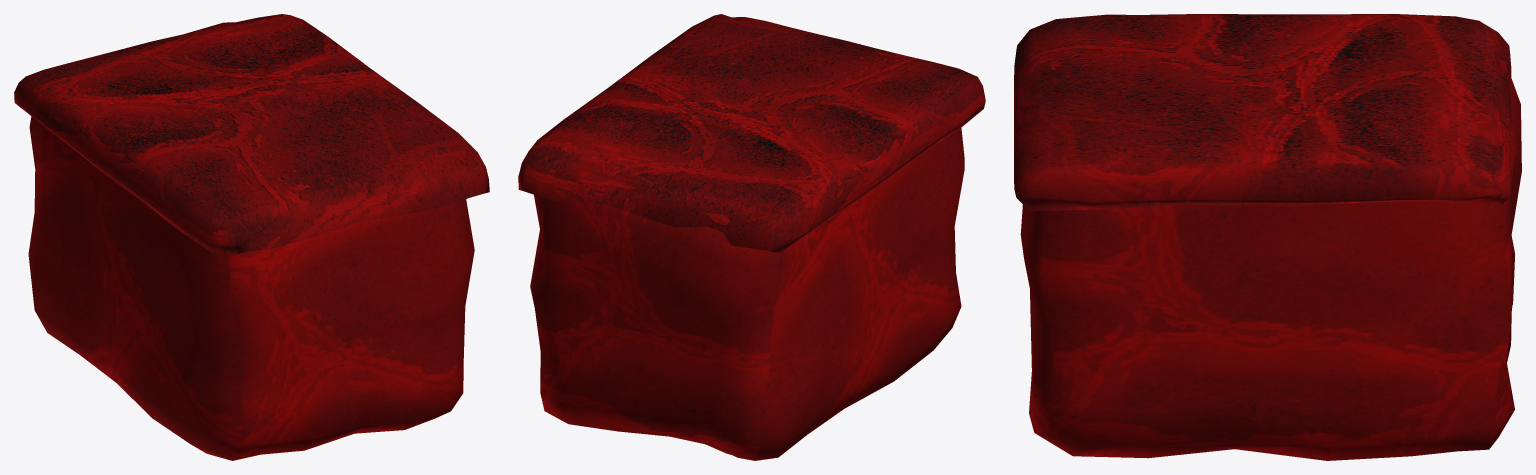
File: tile4 1.fbx
3 renders of one model, left to right at view 1: azimuth 30°, elevation 25°; view 2: azimuth 150°, elevation 25°; view 3: azimuth 270°, elevation 25°, orthographic. The views are drawn at different scales.
Visible parts, largest first — view 1: MINIPLATAFORMABAIXO1, MINIPLATAFORMACIMA1; view 2: MINIPLATAFORMABAIXO1, MINIPLATAFORMACIMA1; view 3: MINIPLATAFORMABAIXO1, MINIPLATAFORMACIMA1.
Part boxes in pixels (x1,y1,x2,y2): MINIPLATAFORMABAIXO1: (28, 22, 474, 460); MINIPLATAFORMACIMA1: (14, 14, 489, 254); MINIPLATAFORMABAIXO1: (530, 128, 964, 460); MINIPLATAFORMACIMA1: (518, 14, 985, 253); MINIPLATAFORMABAIXO1: (1020, 60, 1521, 460); MINIPLATAFORMACIMA1: (1014, 14, 1511, 210).
Bounding box in the file's own units: 243 × 229 × 326.
